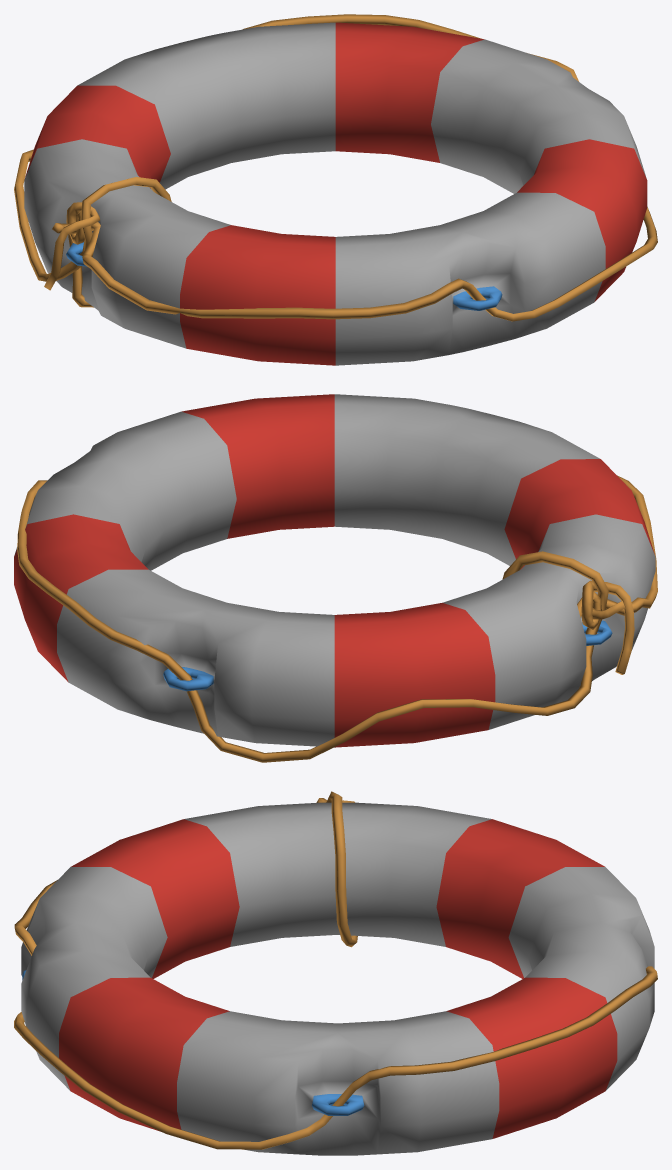
Rendered from Lifesaver.fbx.
3 renders of one model, top to bottom at view 1: azimuth 30°, elevation 25°; view 2: azimuth 150°, elevation 25°; view 3: azimuth 270°, elevation 25°, orthographic. The views are drawn at different scales.
Visible parts, largest first — view 1: Lifesaver; view 2: Lifesaver; view 3: Lifesaver.
Boxes of the visible parts, x1,y1,x2,y2 form: Lifesaver: (14, 14, 657, 365); Lifesaver: (14, 394, 657, 762); Lifesaver: (14, 791, 657, 1155).
Size of the model in its own units: 253 by 58.07 by 245.
